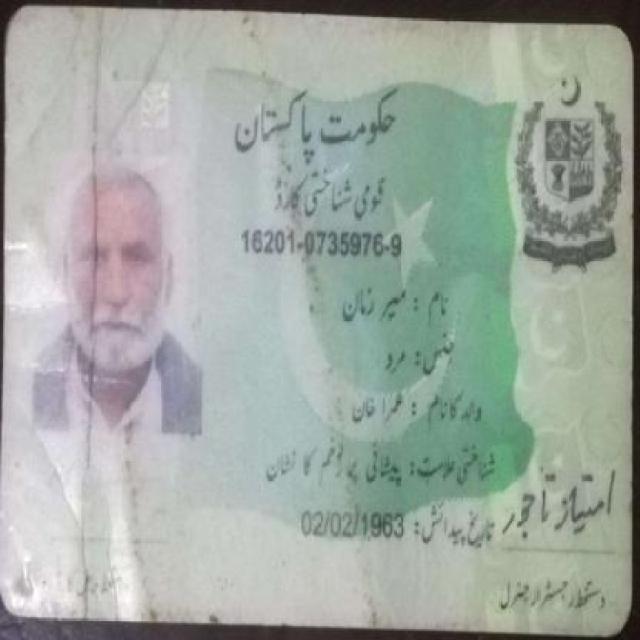Front: (12, 11, 628, 617)
